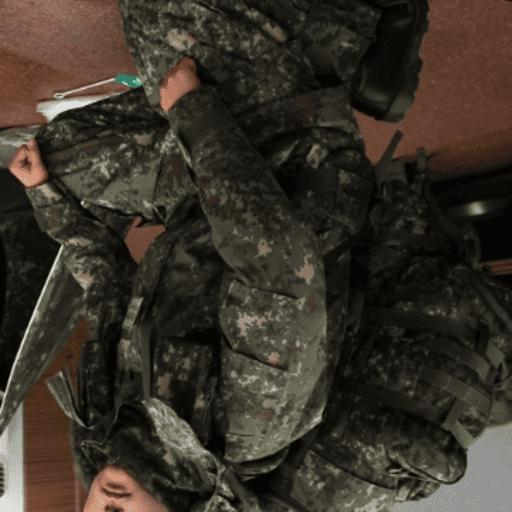korea army: (31, 0, 393, 485)
